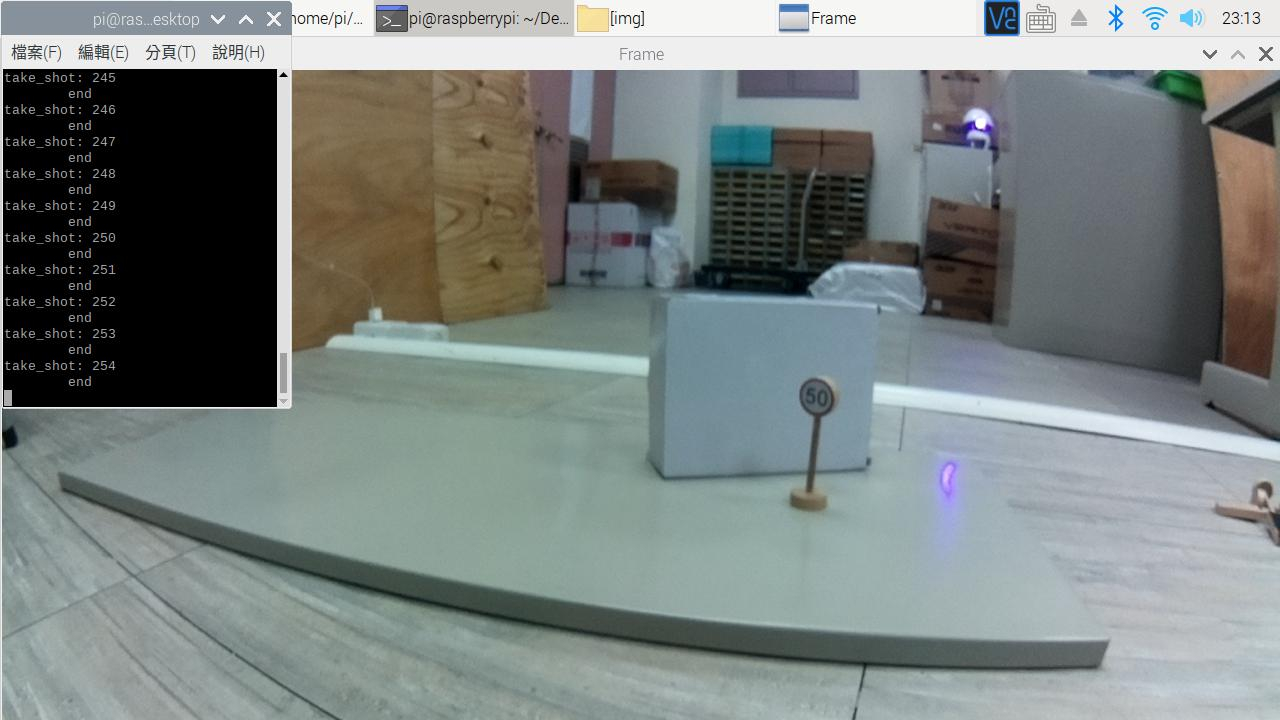Speed50: (783, 362, 850, 433)
